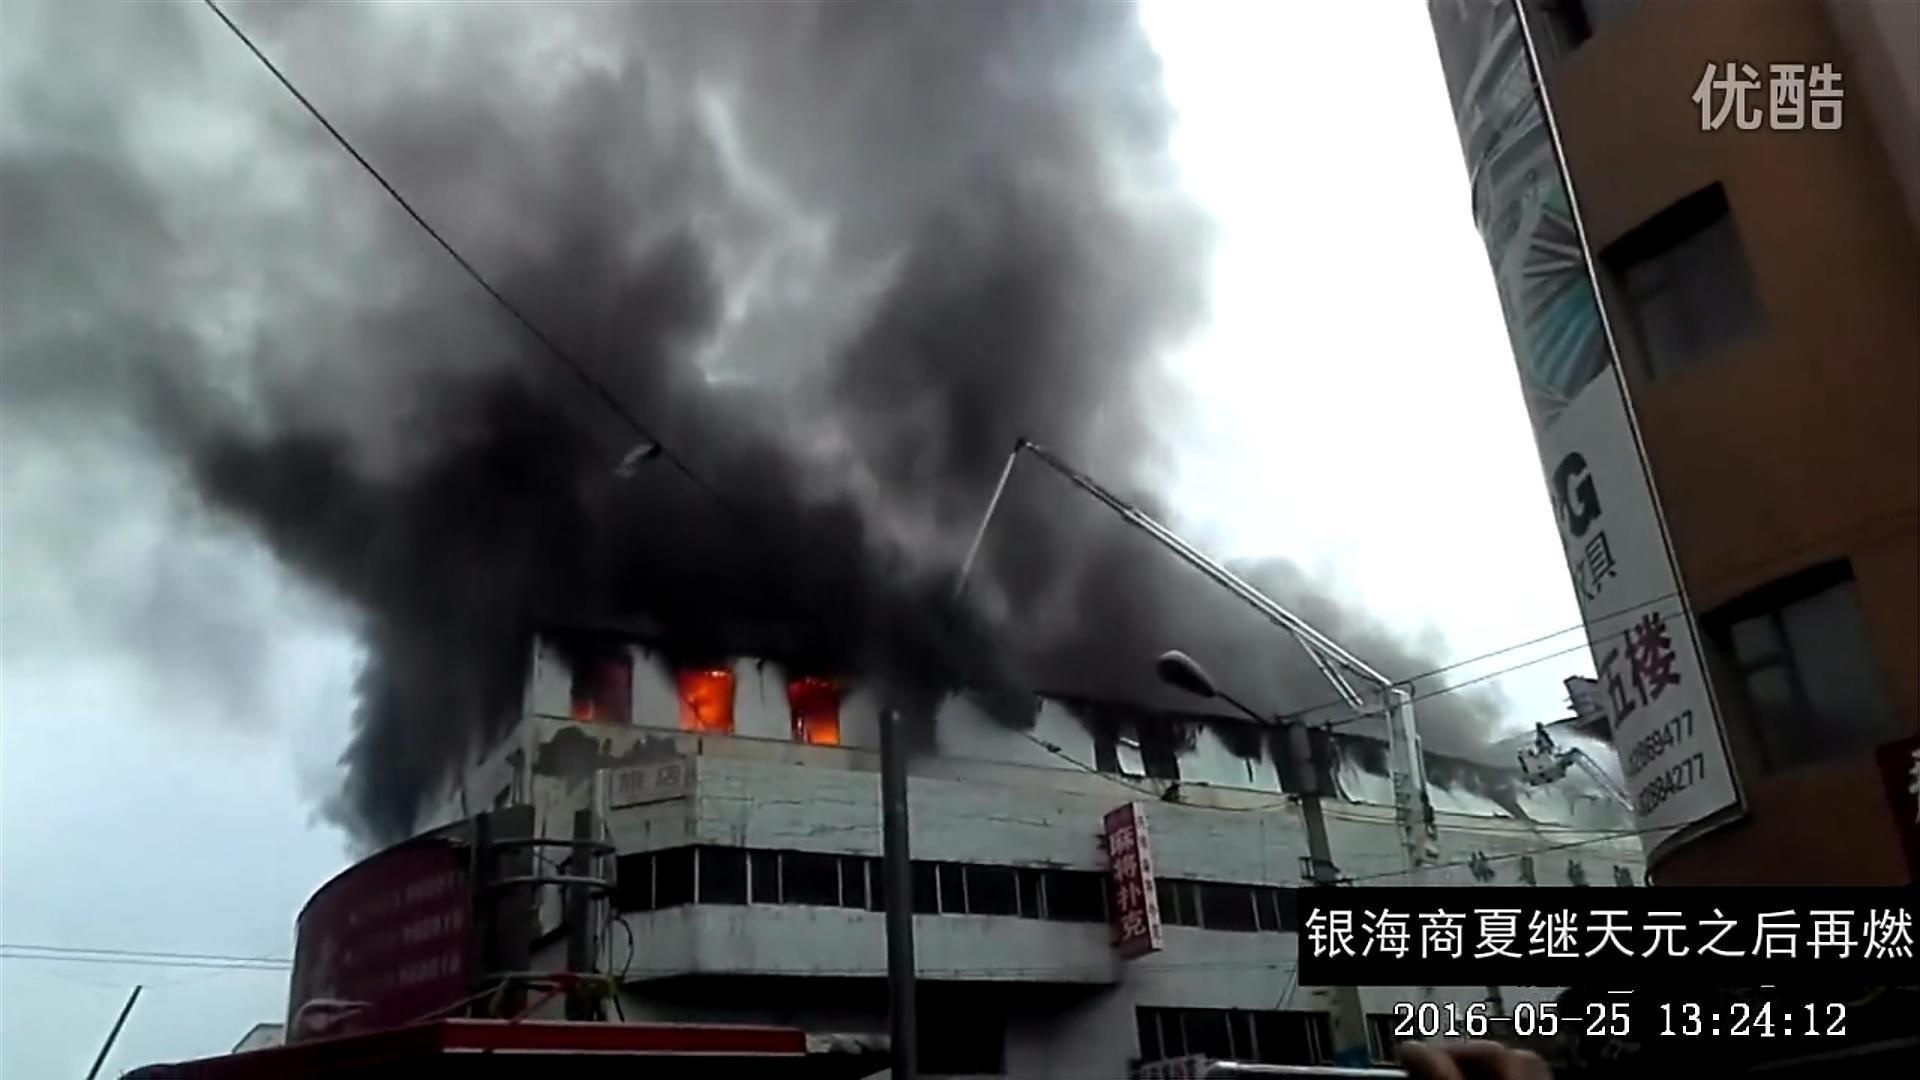fire: (676, 663, 735, 731), (794, 679, 847, 748)
